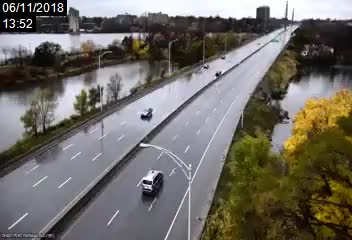personal_car: (139, 165, 164, 198), (141, 106, 155, 120), (213, 69, 224, 77), (200, 62, 210, 68)
